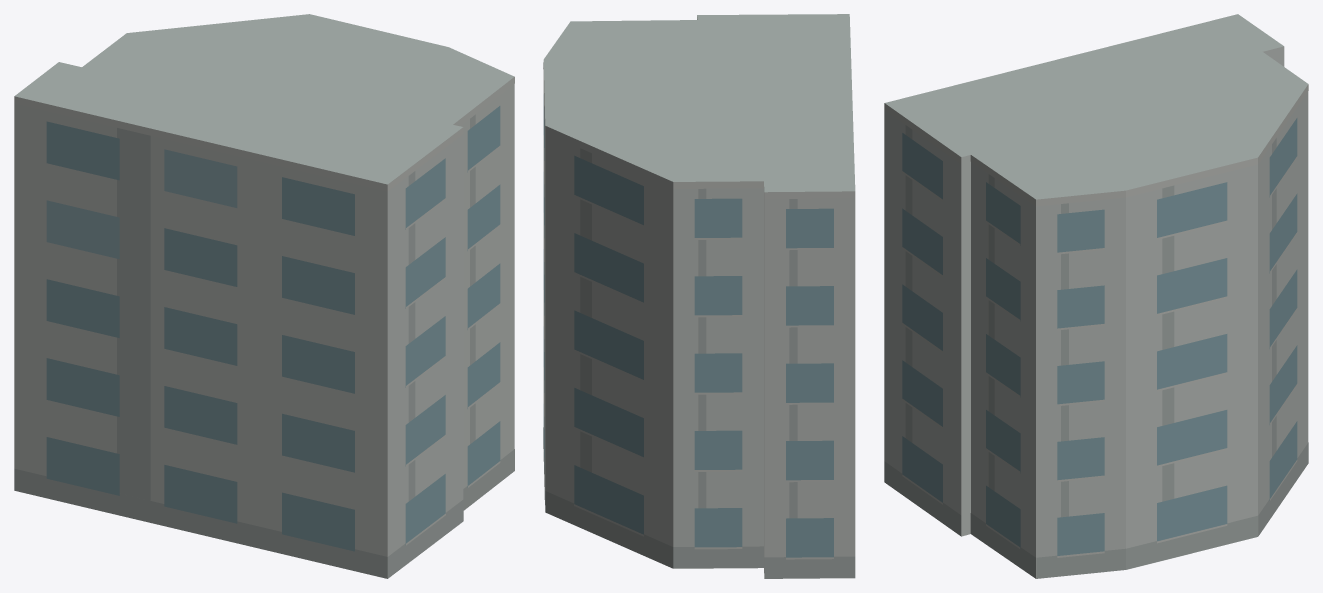
Rendered from survey-upis-32630292.glb.
3 renders of one model, left to right at view 1: azimuth 30°, elevation 25°; view 2: azimuth 150°, elevation 25°; view 3: azimuth 270°, elevation 25°, orthographic. The views are drawn at different scales.
Visible parts, largest first — view 1: survey-upis-32630292.tmp; view 2: survey-upis-32630292.tmp; view 3: survey-upis-32630292.tmp.
Part boxes in pixels (x1=…): survey-upis-32630292.tmp: x1=14, y1=14, x2=514, y2=578; survey-upis-32630292.tmp: x1=543, y1=14, x2=855, y2=578; survey-upis-32630292.tmp: x1=884, y1=14, x2=1308, y2=578.
Size of the model in its own units: 13.97 by 13.3 by 13.49.
